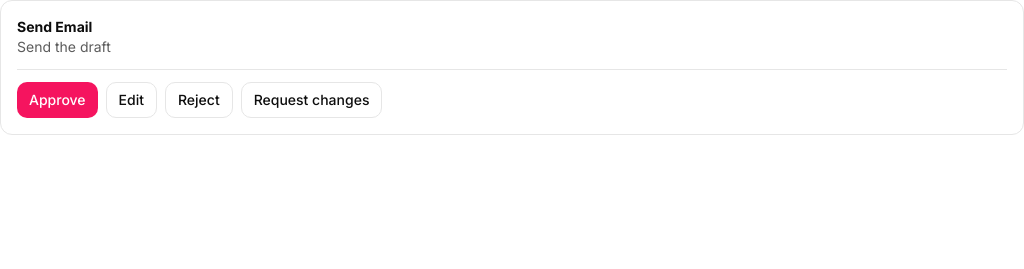
Test: ApprovalCard › renders enum options and submits the selected value
Later steps or results of the test are not shown.
Click the button "Edit".
click(131, 100)  # box [106,82,157,118]
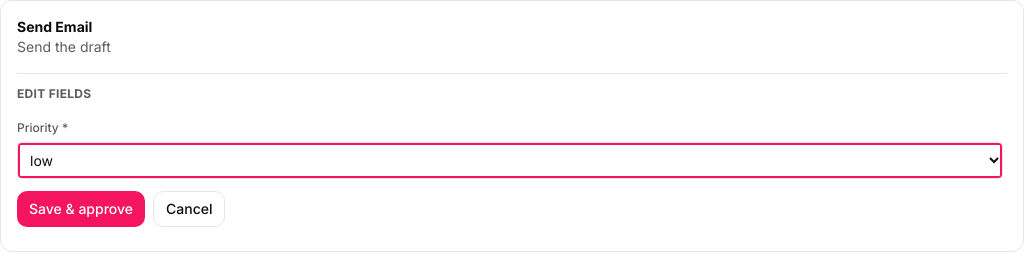
Result: the dropdown labelled "Priority" shows "low" at [17,142,1003,179]
